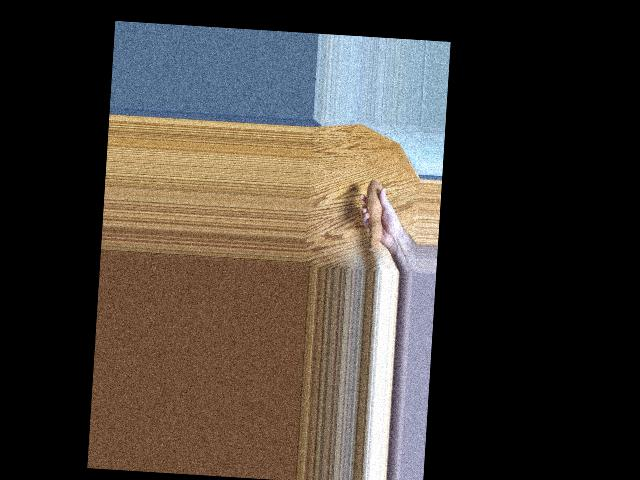sweet_potato: (361, 173, 394, 255)
